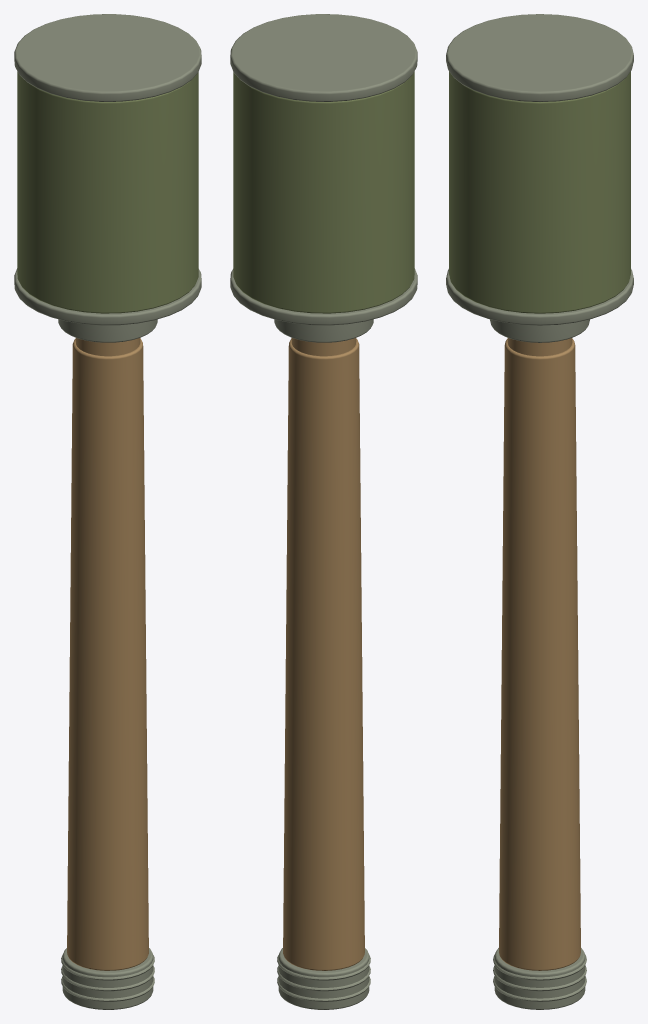
The model's file is ge-m24-grenade.glb.
3 views of the same model, side by side, from view 1: azimuth 30°, elevation 25°; view 2: azimuth 150°, elevation 25°; view 3: azimuth 270°, elevation 25° (orthographic).
Parts seen in each view (by area): view 1: ge-m24-grenade; view 2: ge-m24-grenade; view 3: ge-m24-grenade.
Part boxes in pixels (<box>): ge-m24-grenade: <box>14,14,201,1009</box>; ge-m24-grenade: <box>230,14,417,1009</box>; ge-m24-grenade: <box>446,14,633,1009</box>.
Size of the model in its own units: 0.064 by 0.353 by 0.064.
